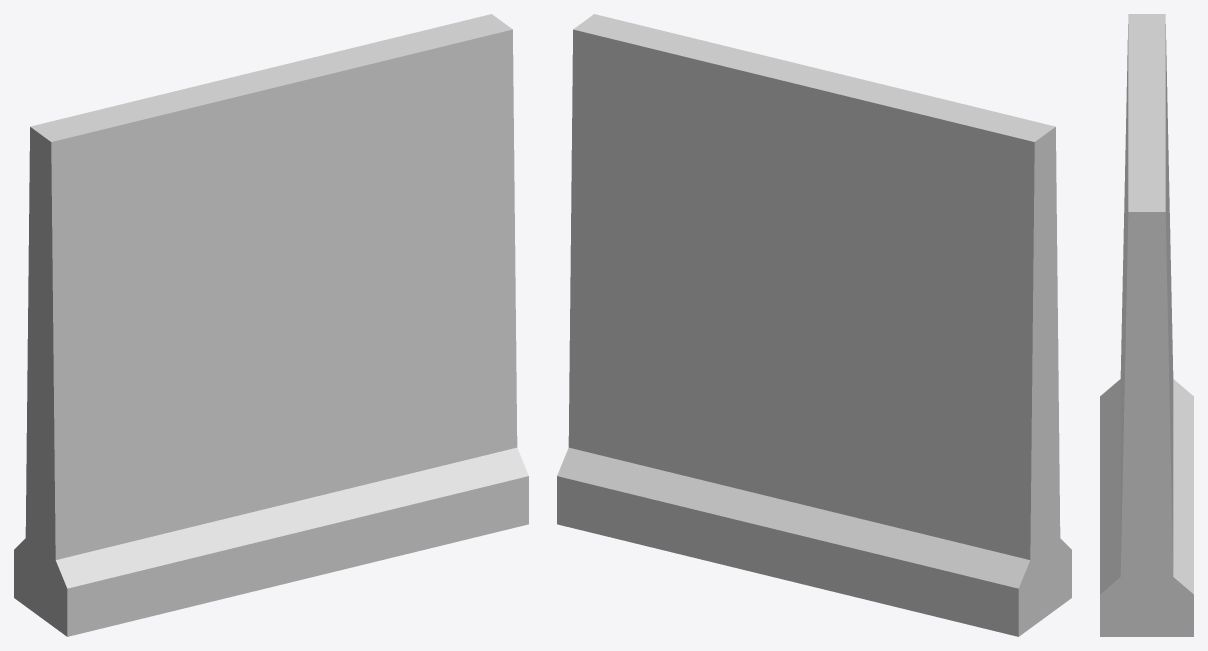
The model's file is wall_piece.glb.
3 renders of one model, left to right at view 1: azimuth 30°, elevation 25°; view 2: azimuth 150°, elevation 25°; view 3: azimuth 270°, elevation 25°, orthographic. The views are drawn at different scales.
Visible parts, largest first — view 1: WallPiece; view 2: WallPiece; view 3: WallPiece.
Part boxes in pixels (x1,y1,x2,y2): WallPiece: (14, 14, 528, 636); WallPiece: (557, 14, 1071, 636); WallPiece: (1100, 14, 1193, 636).
Size of the model in its own units: 5 by 5 by 1.
1 material, 1 textured.
